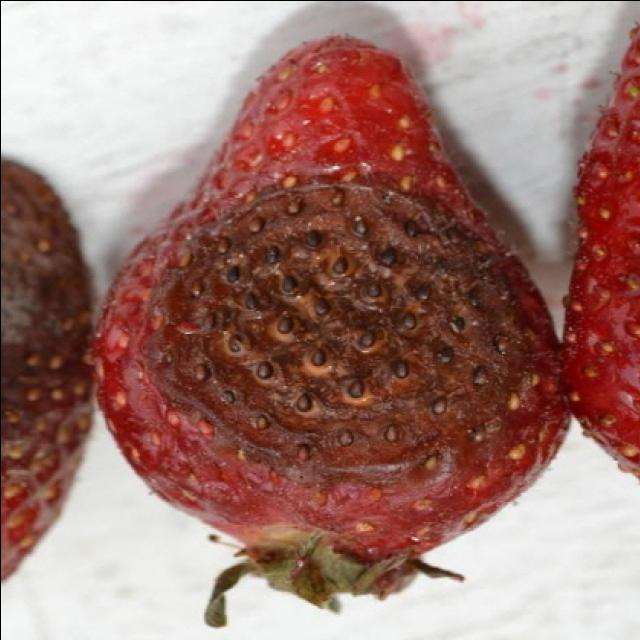Anthracnose Fruit Rot: (162, 202, 518, 442)
